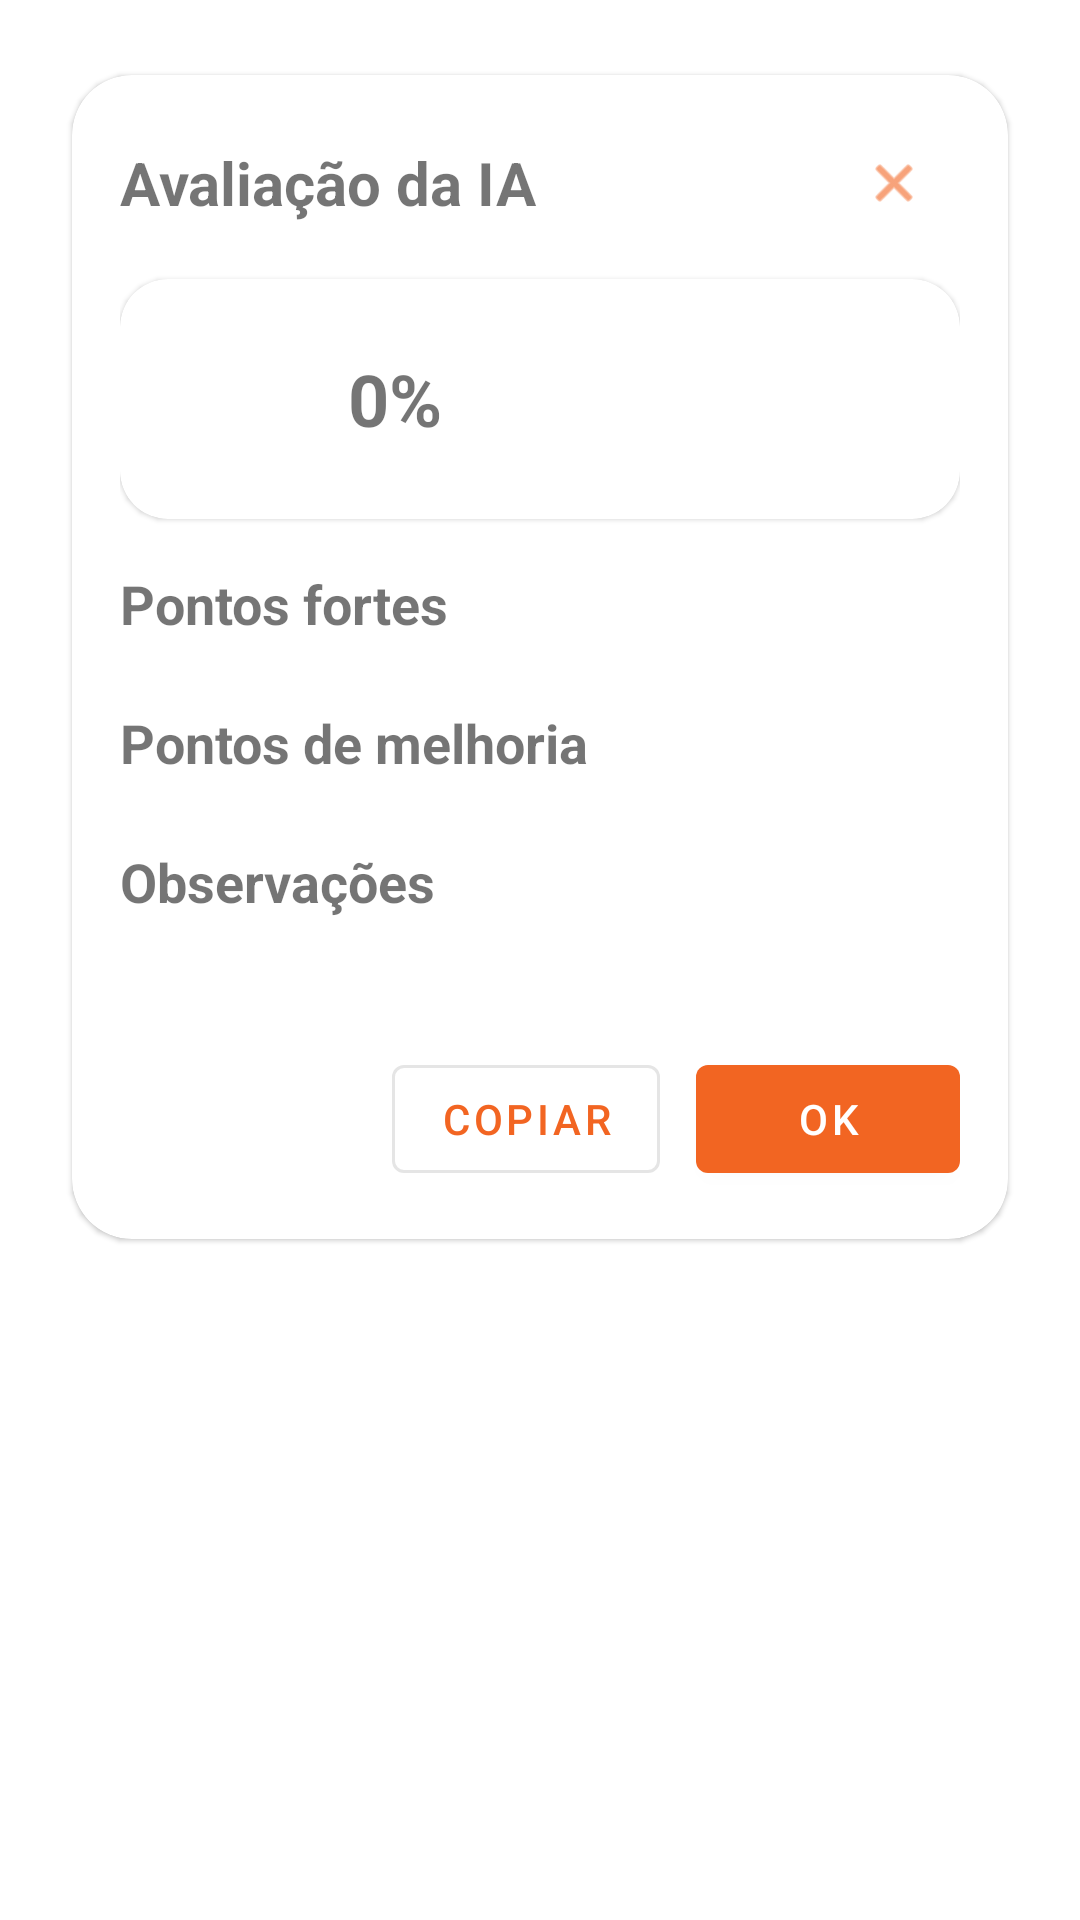

Screen size 1080w x 1920h. Icon name, then its center in pixels as point (x, y):
close clear cancel: point (894, 183)
